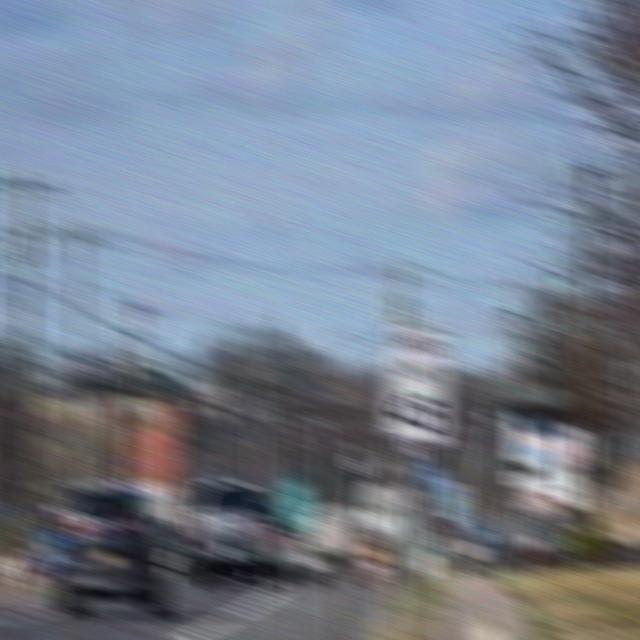speedLimit45: (382, 320, 451, 439)
